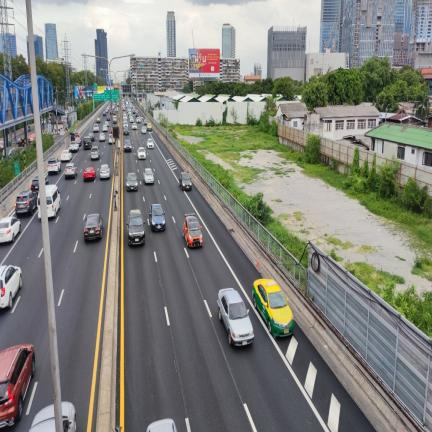car: (0, 344, 35, 427), (217, 288, 254, 345), (0, 265, 22, 308), (183, 214, 202, 247), (127, 210, 144, 244), (15, 190, 37, 215), (0, 216, 21, 242), (84, 214, 103, 241), (149, 204, 165, 230), (179, 172, 191, 190), (47, 158, 61, 173), (126, 173, 138, 190), (64, 163, 77, 178), (83, 167, 96, 181), (144, 168, 154, 184), (83, 134, 94, 148), (100, 164, 110, 179), (60, 149, 72, 161), (30, 176, 39, 191), (91, 146, 99, 159), (69, 142, 79, 152), (124, 140, 132, 152), (138, 148, 146, 159), (70, 131, 79, 140), (147, 138, 154, 148), (123, 125, 129, 135), (75, 137, 81, 146), (89, 133, 95, 141), (99, 133, 105, 141), (93, 124, 99, 131), (132, 123, 137, 130), (141, 127, 146, 133), (45, 177, 48, 184), (0, 394, 3, 397), (0, 409, 1, 412)
pickup: (108, 134, 112, 143)
taxi: (252, 279, 295, 337), (146, 122, 152, 131), (97, 118, 100, 122)
van: (46, 185, 60, 217), (38, 193, 41, 219)
